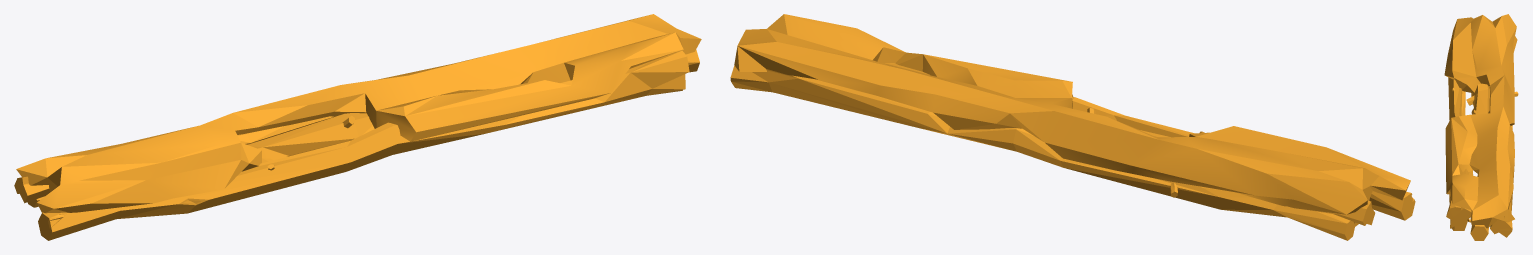
Rendered from SM_Tree_Pine_Log_Pile_A_Snow.fbx.
3 renders of one model, left to right at view 1: azimuth 30°, elevation 25°; view 2: azimuth 150°, elevation 25°; view 3: azimuth 270°, elevation 25°, orthographic. The views are drawn at different scales.
Visible parts, largest first — view 1: tree-pine-log-pile-a-snow; view 2: tree-pine-log-pile-a-snow; view 3: tree-pine-log-pile-a-snow.
Boxes of the visible parts, x1,y1,x2,y2 form: tree-pine-log-pile-a-snow: (14, 14, 701, 240); tree-pine-log-pile-a-snow: (730, 14, 1415, 240); tree-pine-log-pile-a-snow: (1444, 14, 1518, 240).
Bounding box in the file's own units: 7.9 × 0.6442 × 1.21.
